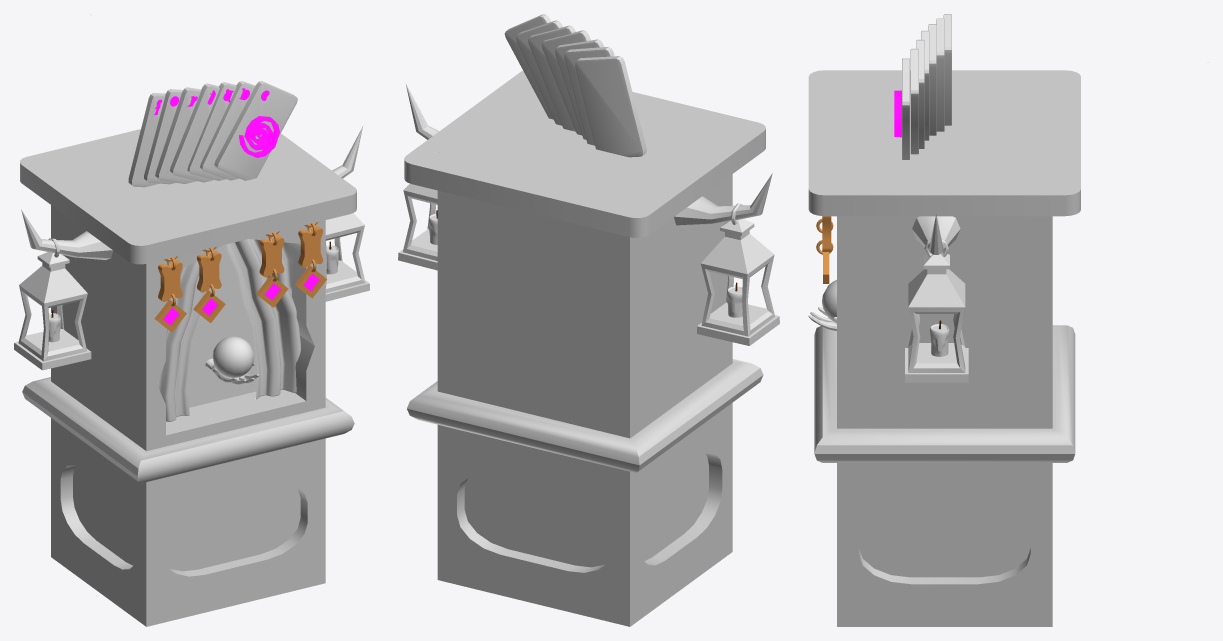
The model's file is FortuneBooth.fbx.
3 renders of one model, left to right at view 1: azimuth 30°, elevation 25°; view 2: azimuth 150°, elevation 25°; view 3: azimuth 270°, elevation 25°, orthographic. The views are drawn at different scales.
Parts seen in each view (by area): view 1: Cube.051; view 2: Cube.051; view 3: Cube.051.
Boxes of the visible parts, x1,y1,x2,y2 form: Cube.051: (14, 14, 369, 626); Cube.051: (398, 14, 779, 626); Cube.051: (808, 14, 1080, 626).
Bounding box in the file's own units: 330 × 450 × 296.
